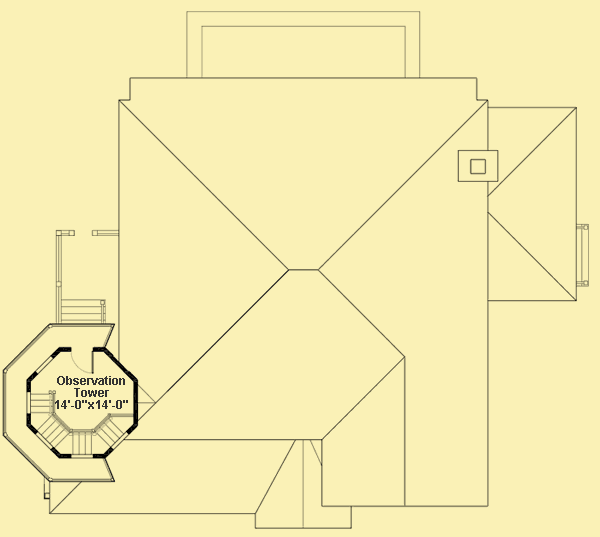door: (68, 346, 99, 376)
stairs: (25, 390, 137, 459), (58, 291, 113, 324)
